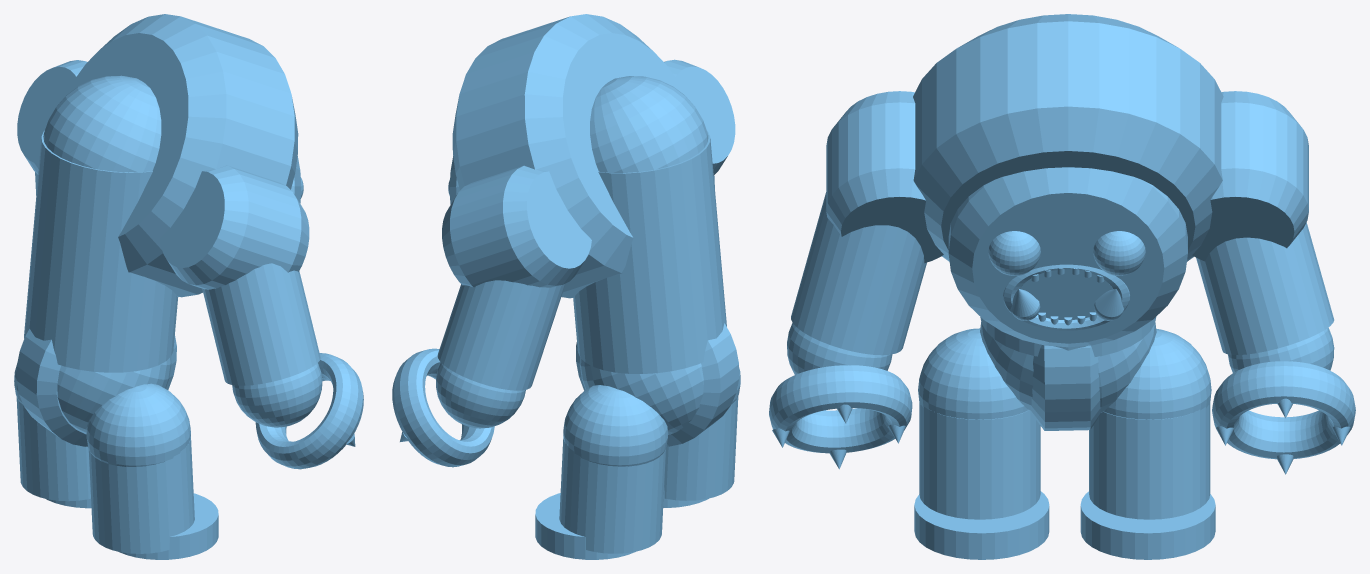
The model's file is yeti.fbx.
The picture shows the model from 3 angles, left to right: view 1: azimuth 30°, elevation 25°; view 2: azimuth 150°, elevation 25°; view 3: azimuth 270°, elevation 25°; orthographic projection. The views are drawn at different scales.
Parts seen in each view (by area): view 1: 球.007; view 2: 球.007; view 3: 球.007.
Boxes of the visible parts, box(x1,y1,x2,y2) form: 球.007: box(14, 14, 363, 559); 球.007: box(392, 14, 740, 559); 球.007: box(769, 14, 1355, 559).
Size of the model in its own units: 390 by 687 by 664.
Materials: 1 (1 with a texture image).
